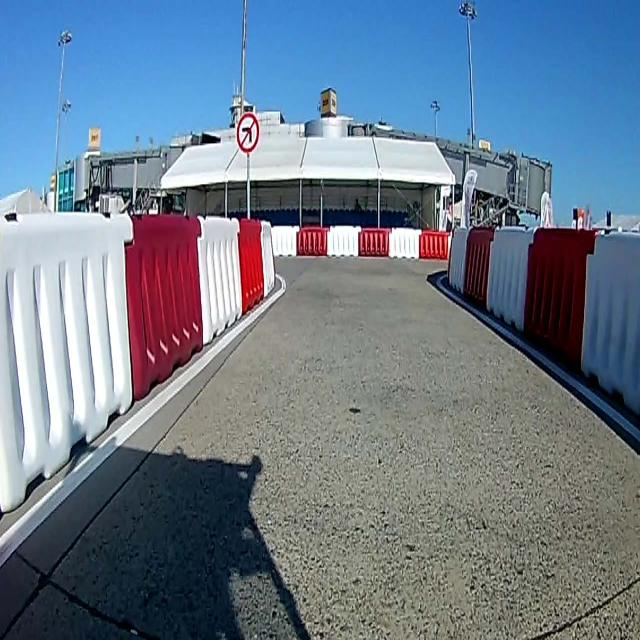soladonulmez: (238, 113, 258, 151)
